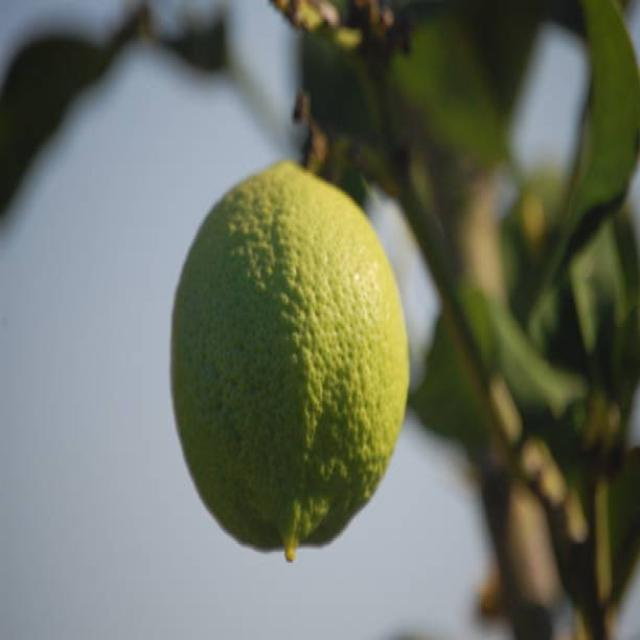Unripe: (170, 163, 408, 564)
